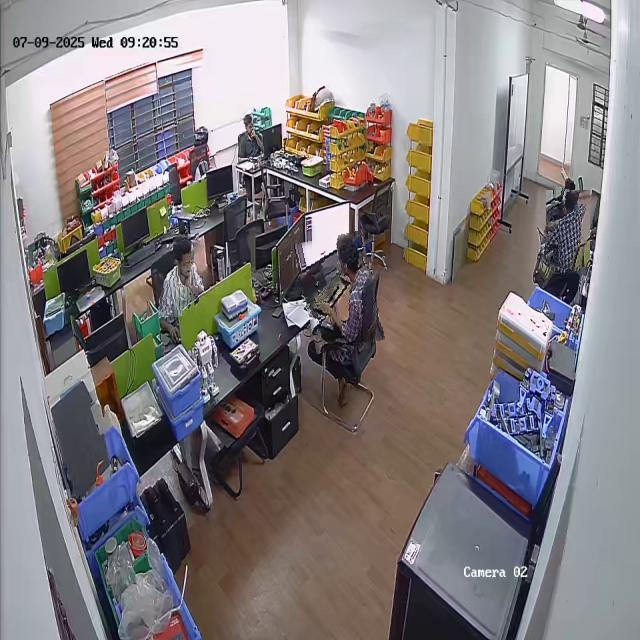person: (299, 233, 380, 351), (542, 188, 594, 269), (156, 234, 203, 317), (238, 111, 265, 158)
